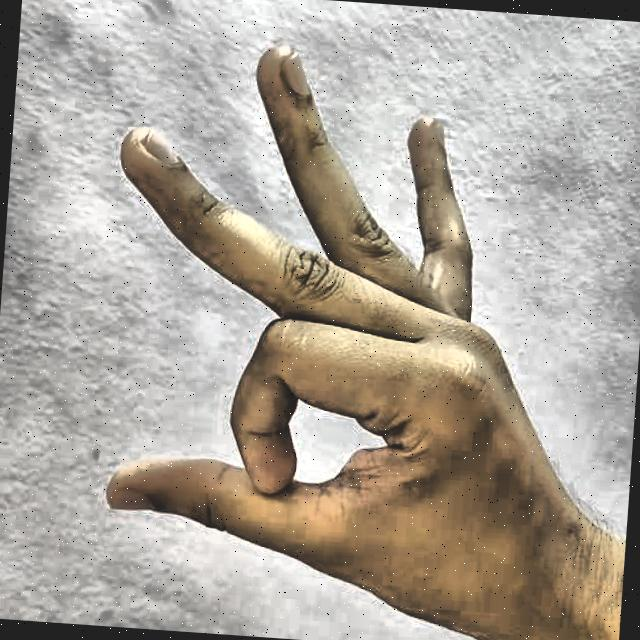Uo: (36, 11, 626, 640)
